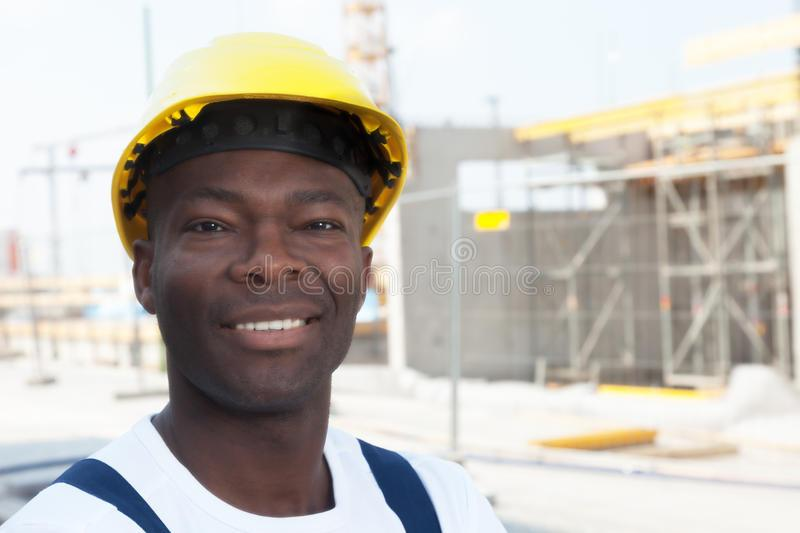helmet: (111, 39, 387, 258)
